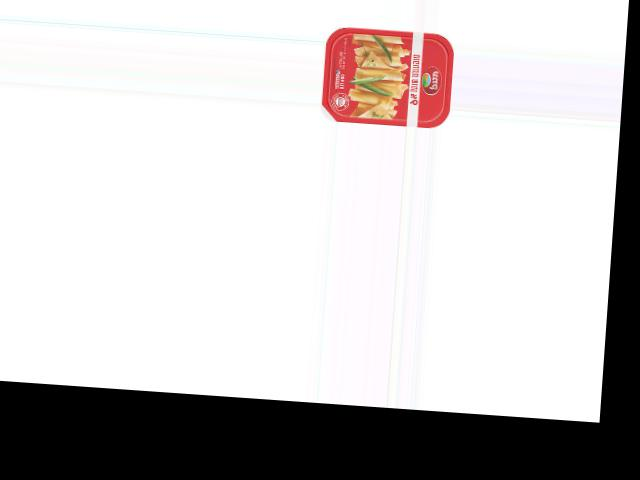cheese: (320, 24, 455, 129)
